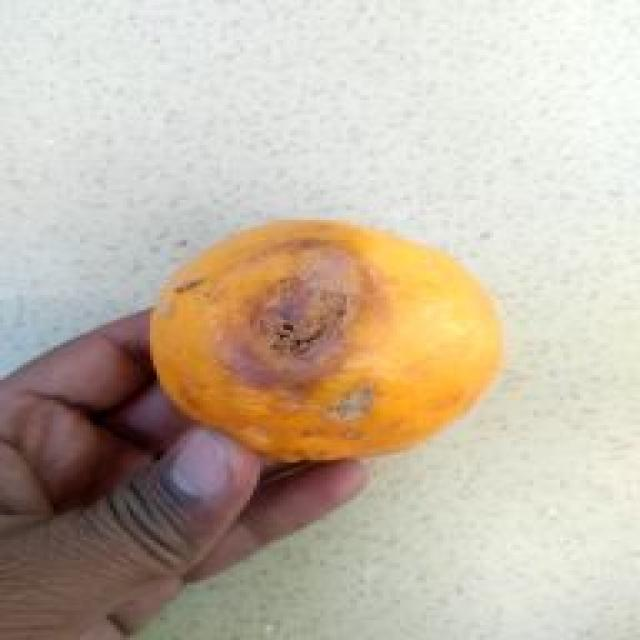Bad_Orange: (152, 221, 500, 461)
